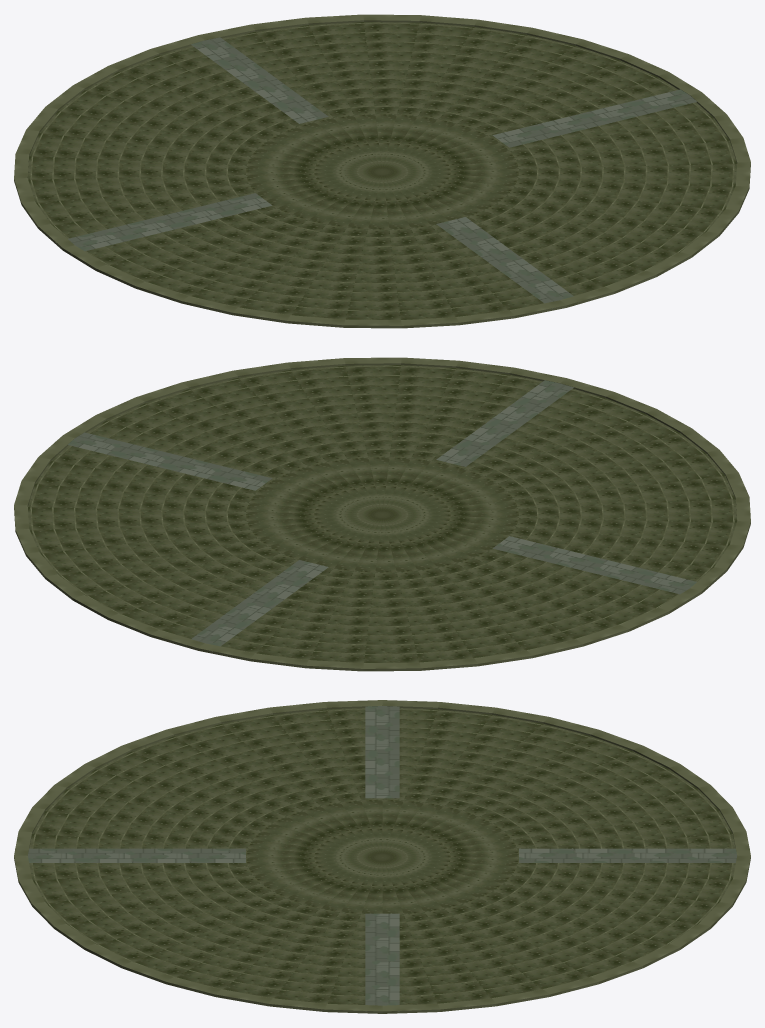
Rendered from village_small_base.glb.
3 renders of one model, top to bottom at view 1: azimuth 30°, elevation 25°; view 2: azimuth 150°, elevation 25°; view 3: azimuth 270°, elevation 25°, orthographic.
Visible parts, largest first — view 1: ae_jungle_village_small_base; view 2: ae_jungle_village_small_base; view 3: ae_jungle_village_small_base.
Boxes of the visible parts, x1,y1,x2,y2 form: ae_jungle_village_small_base: (14, 14, 750, 328); ae_jungle_village_small_base: (14, 357, 750, 671); ae_jungle_village_small_base: (14, 700, 750, 1013).
Size of the model in its own units: 1.61 by 0.00608 by 1.61.
Materials: 1 (1 with a texture image).
